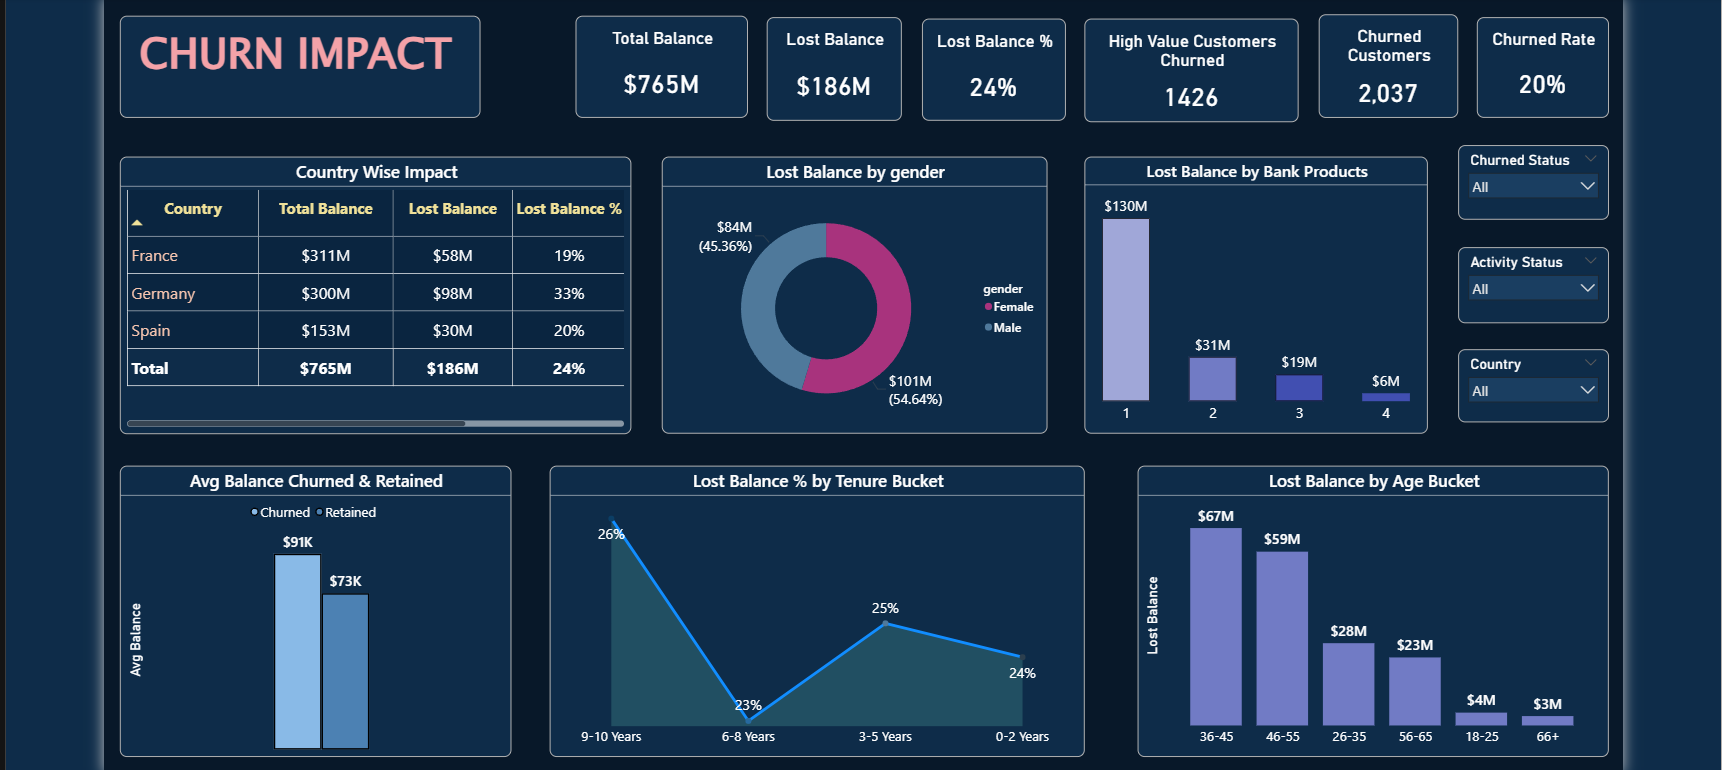

What the dashboard file says about the page in this screenshot:
{"tool":"powerbi","page":{"name":"Churn Impact Analysis","canvas":[2150,1100],"ordinal":5},"visuals":[{"type":"card","title":"Churned Customers","fields":{"Values":["Measuress.Churned Customers"]},"box":[1718.7,24.4,197.4,146.5],"z":0},{"type":"textbox","box":[22.4,26.5,510.8,144.5],"z":1000},{"type":"slicer","title":"Churned Status","fields":{"Values":["Bank_Churn_01.churned_status"]},"box":[1916.9,209.6,213.7,105.8],"z":2000},{"type":"slicer","title":"Activity Status","fields":{"Values":["Bank_Churn_01.activity_status"]},"box":[1916.9,354.1,213.7,107.9],"z":3000},{"type":"slicer","title":"Country","fields":{"Values":["Bank_Churn_01.country"]},"box":[1916.9,498.6,213.7,103.8],"z":4000},{"type":"card","title":"Lost Balance","fields":{"Values":["Measuress.Lost Balance"]},"box":[938.9,28.5,191.3,146.5],"z":5000},{"type":"card","title":"Lost Balance %","fields":{"Values":["Measuress.Lost Balance %"]},"box":[1157.5,30.5,203.5,144.5],"z":6000},{"type":"card","title":"Total Balance","fields":{"Values":["Measuress.Total Balance"]},"box":[667.5,26.5,244.2,144.5],"z":7000},{"type":"tableEx","title":"Country Wise Impact ","fields":{"Values":["Bank_Churn_01.country","Measuress.Total Balance","Measuress.Lost Balance","Measuress.Lost Balance %","Measuress.High Value Customers Churned"]},"box":[22.4,225.9,724.4,392.7],"z":8000},{"type":"columnChart","fields":{"Category":["Bank_Churn_01.number_of_bank_products"],"Y":["Measuress.Lost Balance"]},"box":[1387.4,225.8,486.4,392],"z":9000},{"type":"clusteredColumnChart","title":"Avg Balance Churned & Retained","fields":{"Y":["Measuress.Avg Balance (churned)","Measuress.Avg Balance (Retained)"]},"box":[22.6,662.9,554.1,412.5],"z":10000},{"type":"card","title":"Churned Rate","fields":{"Values":["Measuress.Churned Rate"]},"box":[1943.3,28.5,187.2,142.4],"z":11000},{"type":"columnChart","fields":{"Y":["Measuress.Lost Balance"],"Category":["Bank_Churn_01.Age Bucket"]},"box":[1463.3,662.9,667,412.5],"z":12000},{"type":"card","title":"High Value Customers Churned","fields":{"Values":["Measuress.High Value Customers Churned"]},"box":[1388.2,30.5,303.2,146.5],"z":13000},{"type":"donutChart","fields":{"Category":["Bank_Churn_01.gender"],"Y":["Measuress.Lost Balance"]},"box":[790.2,225.8,545.9,392],"z":14000},{"type":"lineChart","fields":{"Category":["Bank_Churn_01.Tenure Bucket"],"Y":["Measuress.Lost Balance %"]},"box":[630.1,662.9,757.3,412.5],"z":15000}]}

Visuals, with their boxes on the page's 2150x1100 design canvas (x1, y1, x2, y2). These are canvas units, not pixel positions in the 1722x770 screenshot, which may show the page scaled, cropped or inside an application window:
"Churned Customers" card: [1719, 24, 1916, 171]
textbox: [22, 26, 533, 171]
"Churned Status" slicer: [1917, 210, 2131, 315]
"Activity Status" slicer: [1917, 354, 2131, 462]
"Country" slicer: [1917, 499, 2131, 602]
"Lost Balance" card: [939, 28, 1130, 175]
"Lost Balance %" card: [1158, 30, 1361, 175]
"Total Balance" card: [668, 26, 912, 171]
"Country Wise Impact " tableEx: [22, 226, 747, 619]
columnChart - Bank_Churn_01.number_of_bank_products x Measuress.Lost Balance: [1387, 226, 1874, 618]
"Avg Balance Churned & Retained" clusteredColumnChart: [23, 663, 577, 1075]
"Churned Rate" card: [1943, 28, 2130, 171]
columnChart - Measuress.Lost Balance x Bank_Churn_01.Age Bucket: [1463, 663, 2130, 1075]
"High Value Customers Churned" card: [1388, 30, 1691, 177]
donutChart - Bank_Churn_01.gender x Measuress.Lost Balance: [790, 226, 1336, 618]
lineChart - Bank_Churn_01.Tenure Bucket x Measuress.Lost Balance %: [630, 663, 1387, 1075]
